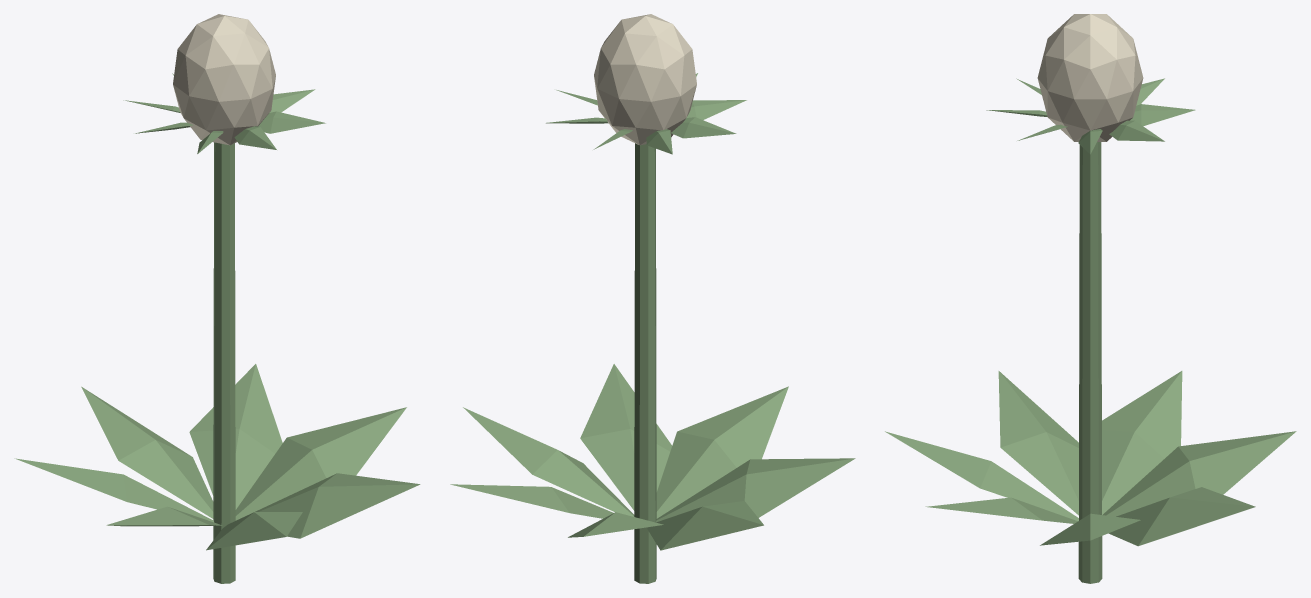
The picture shows the model from 3 angles, left to right: view 1: azimuth 30°, elevation 25°; view 2: azimuth 150°, elevation 25°; view 3: azimuth 270°, elevation 25°; orthographic projection.
Visible parts, largest first — view 1: CE-015 Spined sea-holly rosette batched; view 2: CE-015 Spined sea-holly rosette batched; view 3: CE-015 Spined sea-holly rosette batched.
Boxes of the visible parts, x1,y1,x2,y2 form: CE-015 Spined sea-holly rosette batched: [14, 14, 420, 583]; CE-015 Spined sea-holly rosette batched: [450, 14, 855, 583]; CE-015 Spined sea-holly rosette batched: [885, 14, 1296, 583].
Bounding box in the file's own units: 0.3422 × 0.53 × 0.351.
